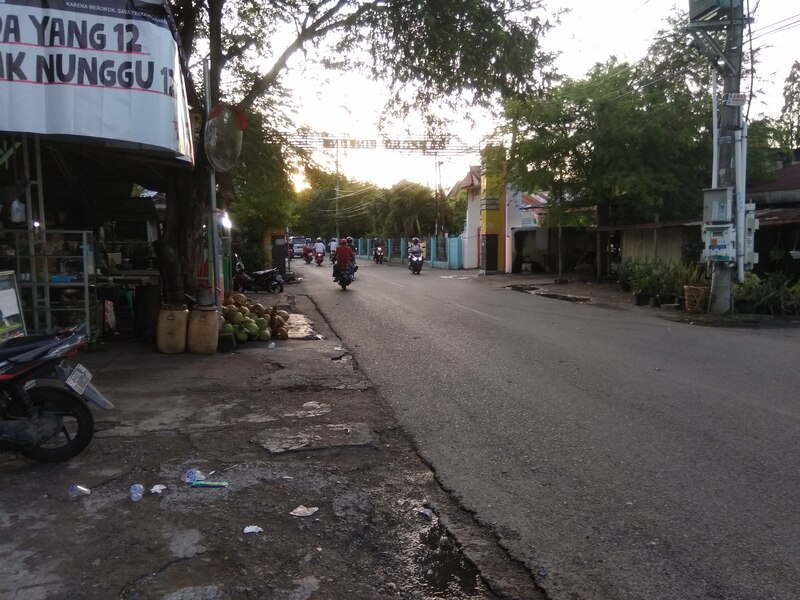motorcycle: (2, 321, 115, 470), (232, 254, 289, 295), (335, 251, 359, 292), (406, 247, 429, 278), (372, 246, 385, 265)
